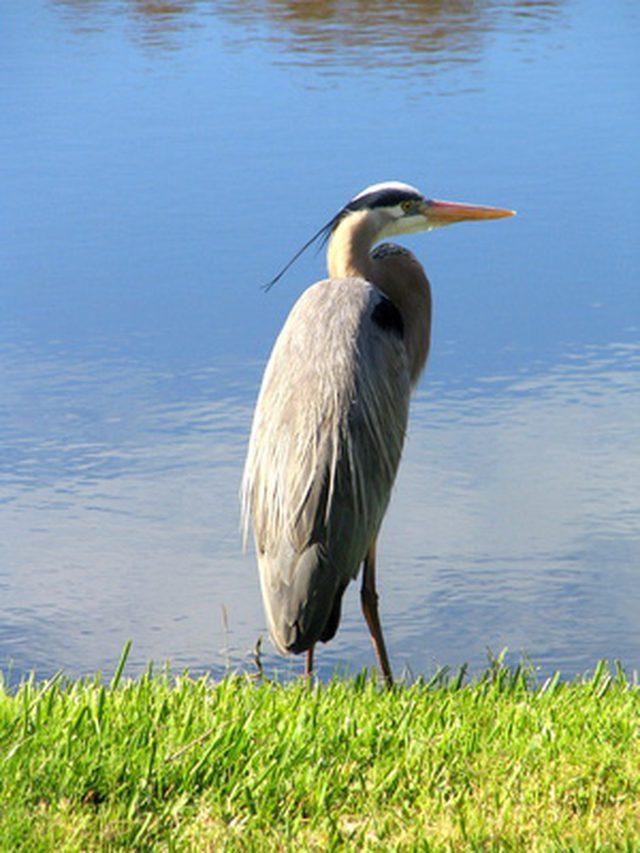heron: (242, 173, 524, 680)
